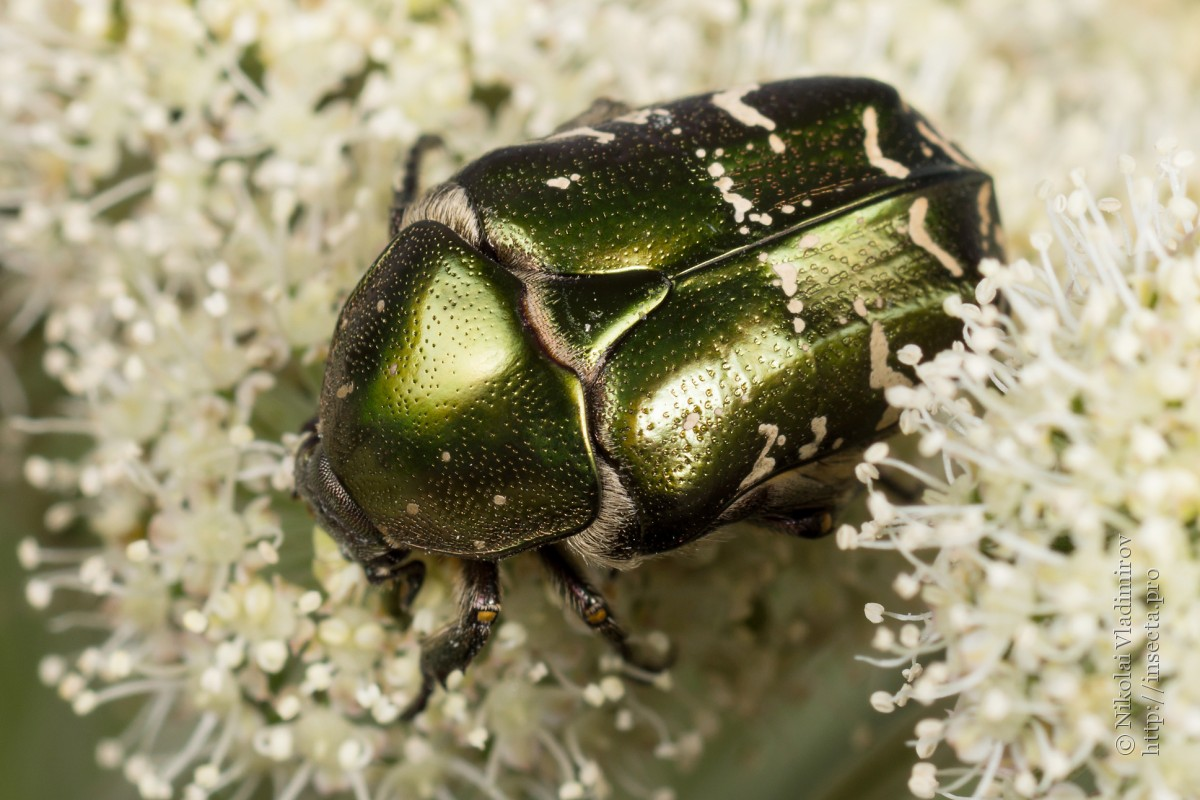Protaetia_metallica: (288, 60, 1005, 715)
